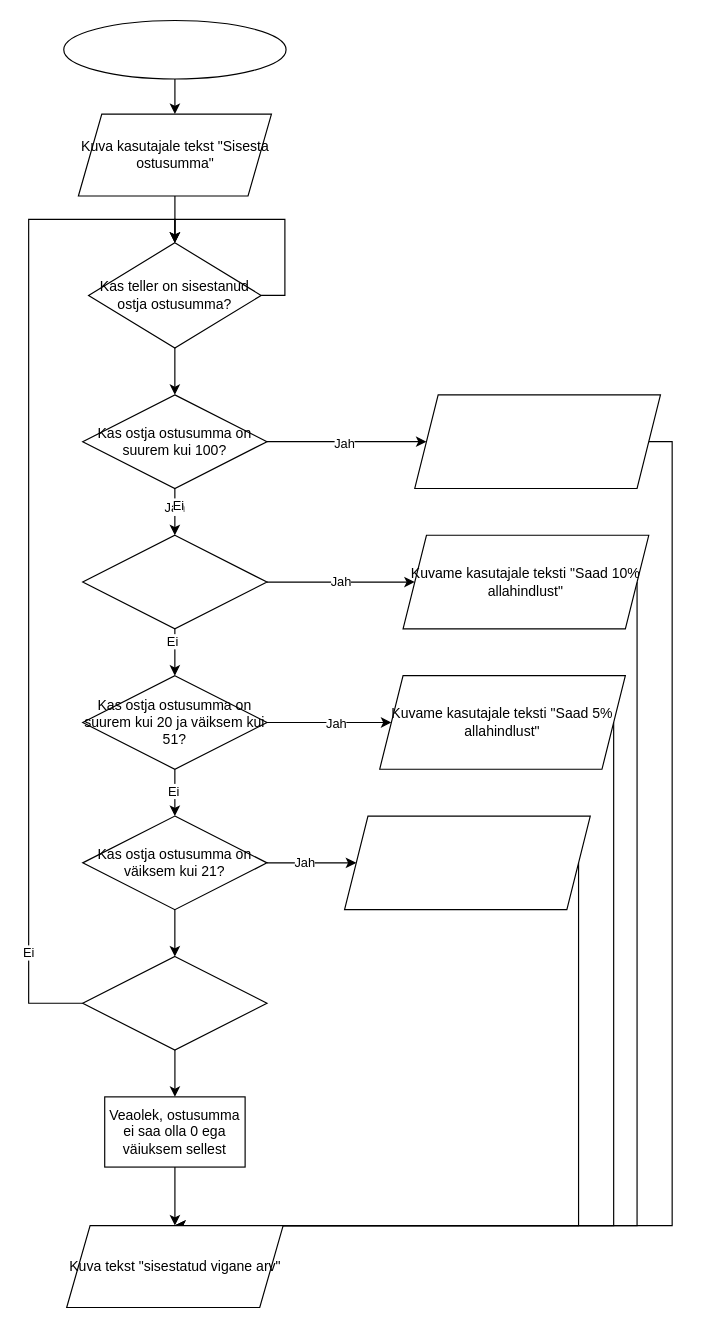
This 702x1328 diagram has some shape labels left out. Each missing label, with the box of its shape:
Algus: (63, 19, 286, 79)
Kas ostja ostusumma on suurem kui 50 ja väiksem kui 101?: (82, 534, 267, 629)
Kas ostja ostusumma on väiksem kui 1?: (82, 955, 267, 1050)
Kuvame kasutajale teksti "Allahinldlust ei saa": (343, 815, 590, 910)
Kuvame kasutajale teksti "Saad 20% allahindlust": (414, 394, 660, 488)
